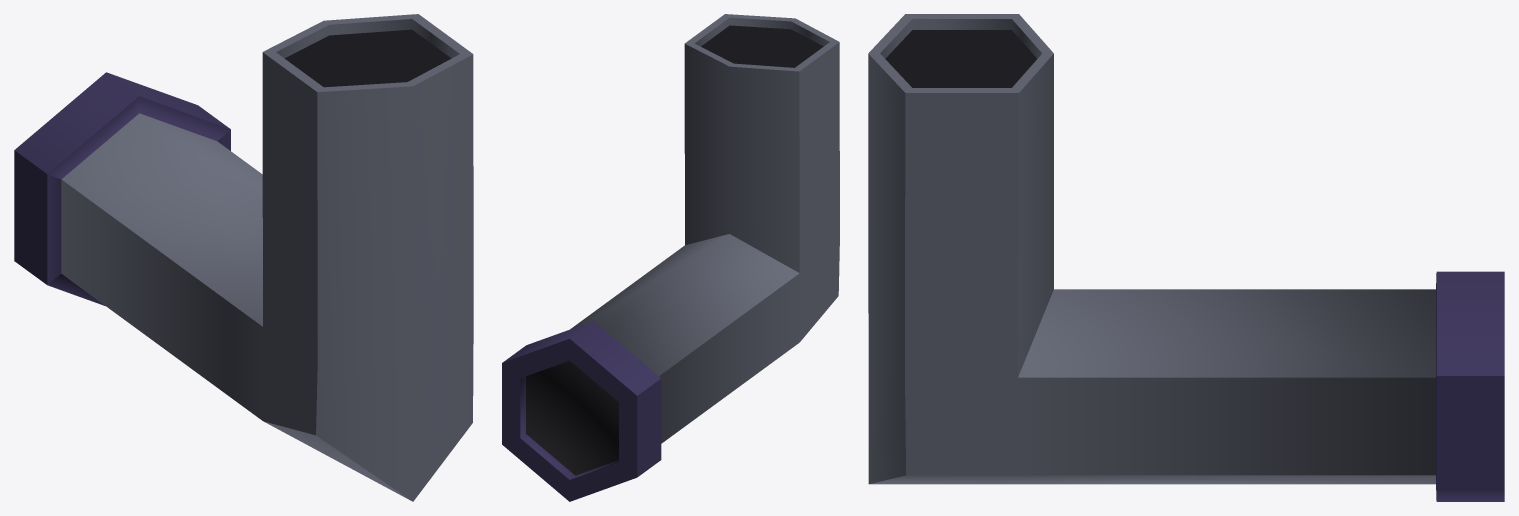
File: PipeCorner.fbx
3 views of the same model, side by side, from view 1: azimuth 30°, elevation 25°; view 2: azimuth 150°, elevation 25°; view 3: azimuth 270°, elevation 25° (orthographic). The views are drawn at different scales.
Visible parts, largest first — view 1: PipeCorner; view 2: PipeCorner; view 3: PipeCorner.
Boxes of the visible parts, x1,y1,x2,y2 form: PipeCorner: [14, 14, 473, 501]; PipeCorner: [502, 14, 839, 501]; PipeCorner: [868, 14, 1504, 501].
Bounding box in the file's own units: 0.0861 × 0.1938 × 0.2493.
